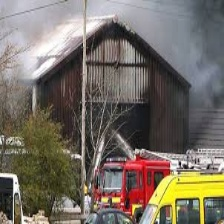smoke: (126, 1, 215, 81), (1, 1, 39, 69)
